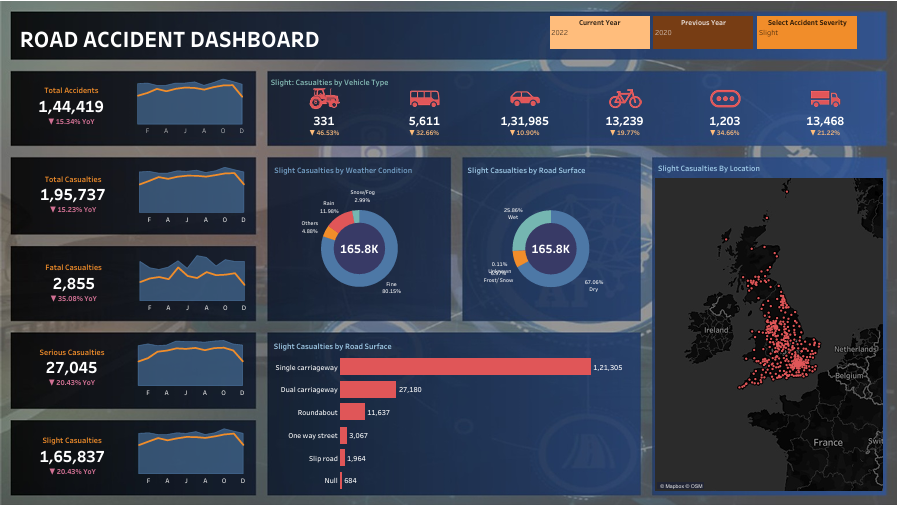

What the dashboard file says about the page in this screenshot:
{"tool":"tableau","page":{"name":"Dashboard 1","canvas":[1600,900],"ordinal":0},"visuals":[{"type":"image","param":"E:/MBA/2nd Yr/Resume, Live Projects, Internships/RIGA/visualization/Tableau/Road","box":[8,8,1584,884]},{"type":"parameter","param":"[Parameters].[Parameter 1]","box":[970,35,180,65]},{"type":"parameter","param":"[Parameters].[Parameter 2]","box":[1150,35,180,65]},{"type":"parameter","param":"[Parameters].[Parameter 3]","box":[1330,35,180,65]},{"type":"text","box":[52,45,855,64]},{"type":"text","box":[487,137,360,30]},{"type":"worksheet","title":"Total Accidents","mark":"Automatic","box":[42,139,205,110]},{"type":"worksheet","title":"Accident Sparkline","mark":"Automatic","rows":["CY Accidents (copy)_161285174463266819","Calculation_161285174462914562"],"cols":["Accident Date"],"box":[247,139,205,110]},{"type":"worksheet","title":"Vehicle Type Images","mark":"Shape","box":[492,156,1050,45]},{"type":"worksheet","title":"Vehicle Type KPI","mark":"Automatic","box":[492,201,1050,55]},{"type":"worksheet","title":"By Location","mark":"Automatic","rows":["Latitude"],"cols":["Longitude"],"box":[1157,287,395,575]},{"type":"worksheet","title":"Weather Conditions","mark":"Pie","rows":["Calculation_1220475533051002882","Calculation_1220475533051064324"],"box":[492,289,303,270]},{"type":"worksheet","title":"Road Surface","mark":"Pie","rows":["Calculation_1220475533051002882","Calculation_1220475533051064324"],"box":[827,289,297,271]},{"type":"worksheet","title":"Total Casualties","mark":"Automatic","box":[45,292,205,110]},{"type":"worksheet","title":"Total Casualties Sparkline","mark":"Automatic","rows":["CY Casualties (copy)_161285174468952070","Calculation_161285174468403205"],"cols":["Accident Date"],"box":[250,292,205,110]},{"type":"worksheet","title":"Fatal Casualties","mark":"Automatic","box":[46,445,205,110]},{"type":"worksheet","title":"FataL Sparkline","mark":"Automatic","rows":["CY Fatal Casualties (copy)_161285174470664201","Calculation_161285174469681160"],"cols":["Accident Date"],"box":[251,445,205,110]},{"type":"worksheet","title":"Serious Casualties","mark":"Automatic","box":[43,592,205,110]},{"type":"worksheet","title":"Serious Sparkline","mark":"Automatic","rows":["PY Fatal Casualties (copy)_161285174516936716","CY Fatal Casualties (copy)_161285174516670475"],"cols":["Accident Date"],"box":[248,592,205,110]},{"type":"worksheet","title":"Road Type","mark":"Automatic","rows":["Road_Type"],"cols":["Calculation_161285174468403205"],"box":[491,594,635,268]},{"type":"worksheet","title":"Slight Casualties","mark":"Automatic","box":[44,745,205,110]},{"type":"worksheet","title":"Slight Sparkline","mark":"Automatic","rows":["PY Serious Casualties (copy)_161285174814040079","CY Serious Casualties (copy)_161285174813925390"],"cols":["Accident Date"],"box":[249,745,205,110]}]}

Visuals, with their boxes in screenshot pixels (x1, y1, x2, y2), scaled from the page's 1600x900 canvas onto the 897x505 screenshot:
image: (4,4,893,501)
parameter: (544,20,645,56)
parameter: (645,20,746,56)
parameter: (746,20,847,56)
text: (29,25,508,61)
text: (273,77,475,94)
"Total Accidents" worksheet: (24,78,138,140)
"Accident Sparkline" worksheet: (138,78,253,140)
"Vehicle Type Images" worksheet (Shape marks): (276,88,864,113)
"Vehicle Type KPI" worksheet: (276,113,864,144)
"By Location" worksheet: (649,161,870,484)
"Weather Conditions" worksheet (Pie marks): (276,162,446,314)
"Road Surface" worksheet (Pie marks): (464,162,630,314)
"Total Casualties" worksheet: (25,164,140,226)
"Total Casualties Sparkline" worksheet: (140,164,255,226)
"Fatal Casualties" worksheet: (26,250,141,311)
"FataL Sparkline" worksheet: (141,250,256,311)
"Serious Casualties" worksheet: (24,332,139,394)
"Serious Sparkline" worksheet: (139,332,254,394)
"Road Type" worksheet: (275,333,631,484)
"Slight Casualties" worksheet: (25,418,140,480)
"Slight Sparkline" worksheet: (140,418,255,480)
